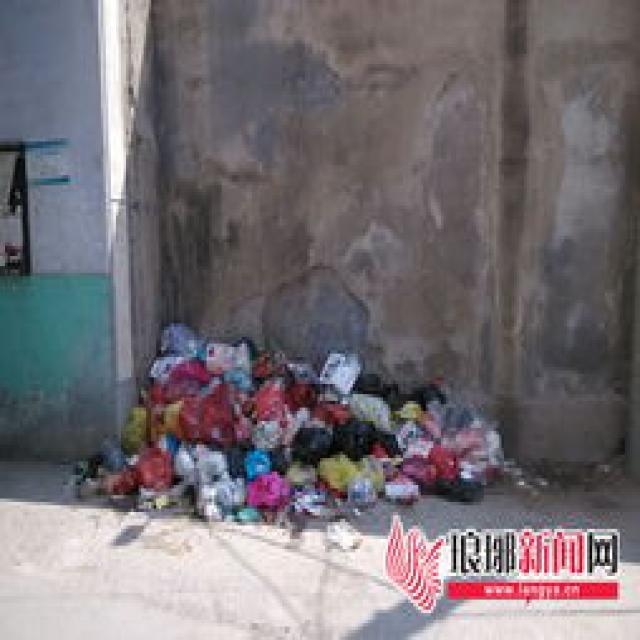garbage: (70, 320, 504, 542)
